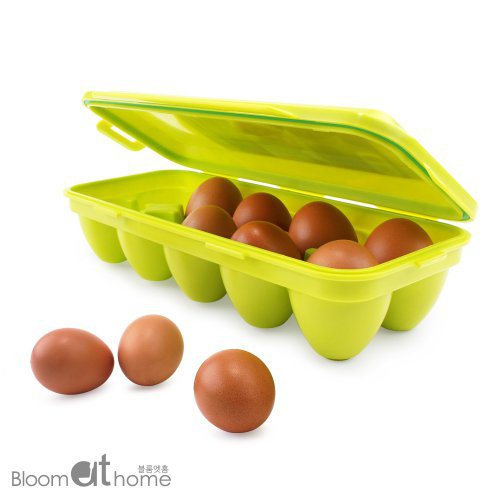egg: (177, 167, 435, 294), (26, 310, 276, 432)
